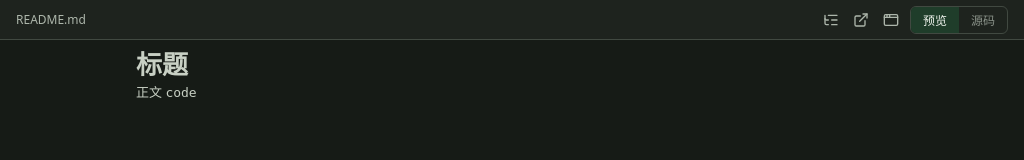
FileView markdown 预览 › .md 默认渲染预览 + 工具条二态（分组按钮）；切换源码为代码视图
The image size is (1024, 160).
// 切源码：CodeMirror 视图显示原文
Step 1. Click the button "源码" → (983, 20), box left=959, top=6, right=1007, bottom=32
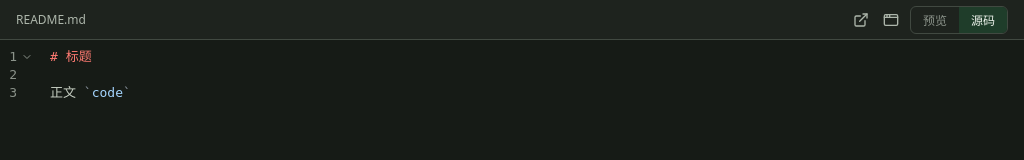
Expected: the field with class "cm-content" shows "# 标题", left=50, top=49, right=131, bottom=100
